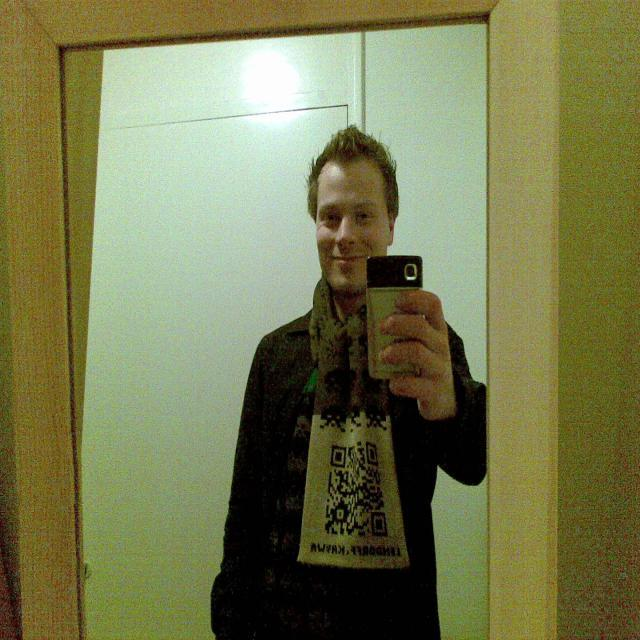qrcode: (326, 442, 388, 537)
